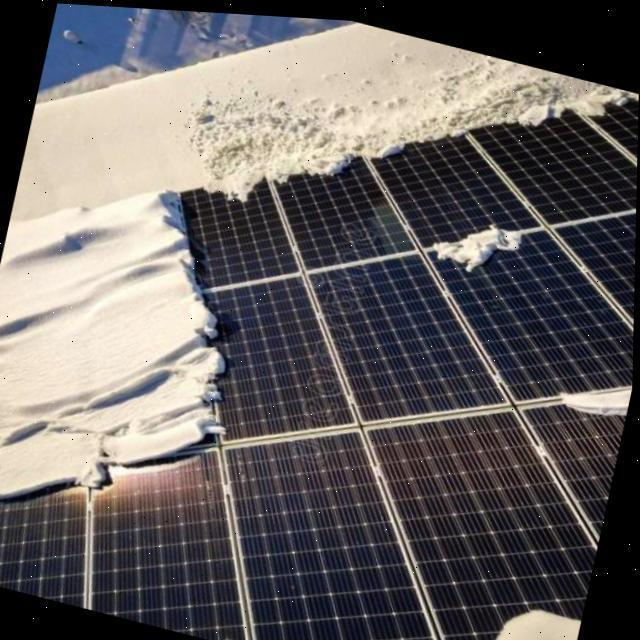Anomaly Solar Panel: (0, 76, 639, 640)
Snow: (0, 183, 226, 496), (198, 79, 639, 206), (367, 558, 586, 640), (426, 199, 530, 279), (560, 350, 634, 413), (205, 627, 257, 640)
